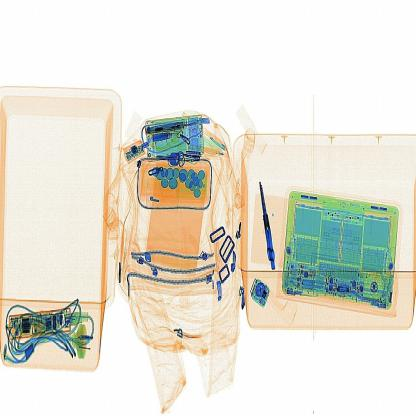gun: (254, 178, 284, 277)
